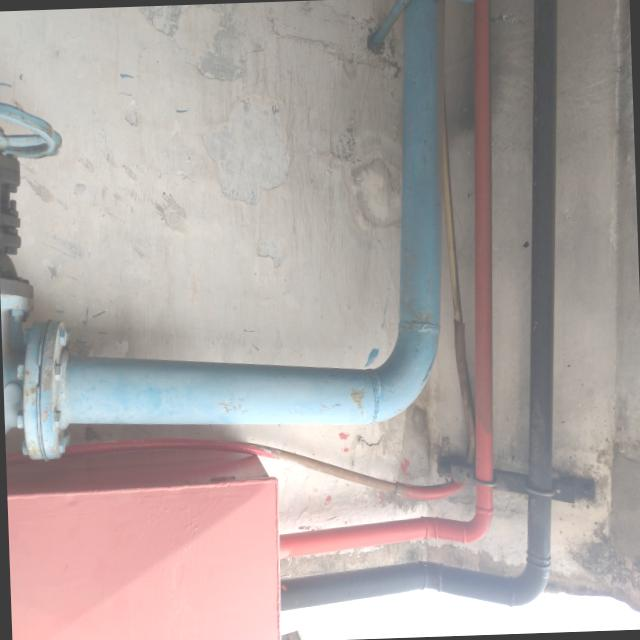gas: (286, 0, 555, 609), (81, 0, 440, 424), (293, 0, 493, 556)
